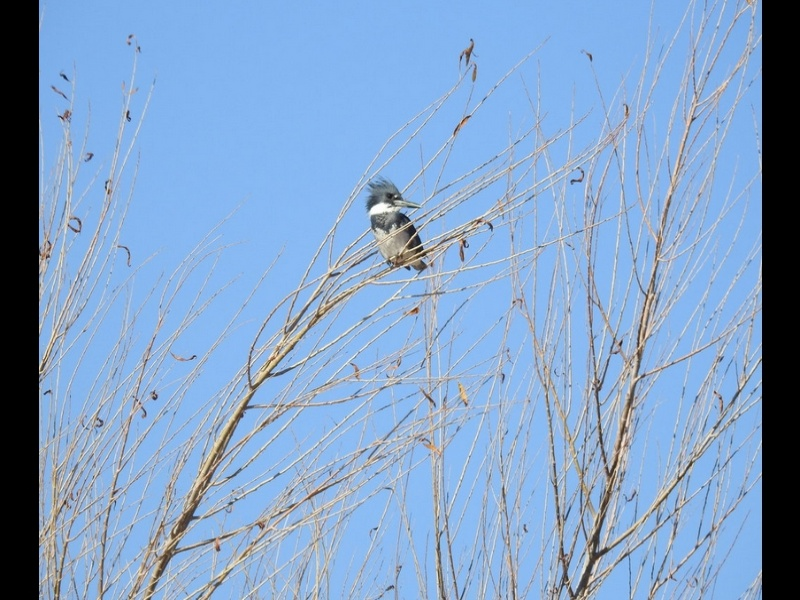kingfisher: (366, 176, 433, 275)
